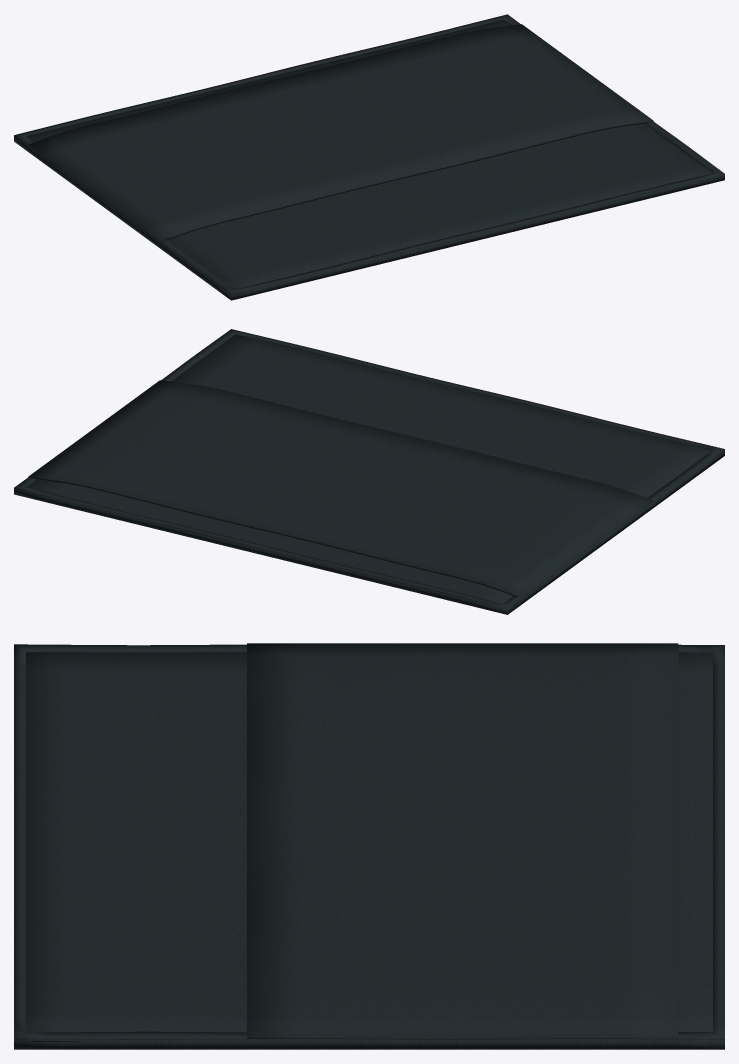
Rendered from KD1_Pad_Packed.fbx.
3 views of the same model, one above another, from view 1: azimuth 30°, elevation 25°; view 2: azimuth 150°, elevation 25°; view 3: azimuth 270°, elevation 25° (orthographic). The views are drawn at different scales.
Visible parts, largest first — view 1: Part_HandSleeve_Packed, Part_PadContact_Packed, Part_EdgeBinding_Packed; view 2: Part_HandSleeve_Packed, Part_PadContact_Packed, Part_EdgeBinding_Packed; view 3: Part_HandSleeve_Packed, Part_PadContact_Packed, Part_EdgeBinding_Packed.
Boxes of the visible parts, left/top/right/bottom form: Part_HandSleeve_Packed: left=28, top=24, right=653, bottom=241; Part_PadContact_Packed: left=14, top=20, right=724, bottom=300; Part_EdgeBinding_Packed: left=14, top=14, right=724, bottom=294; Part_HandSleeve_Packed: left=28, top=380, right=653, bottom=597; Part_PadContact_Packed: left=14, top=334, right=724, bottom=614; Part_EdgeBinding_Packed: left=14, top=329, right=724, bottom=608; Part_HandSleeve_Packed: left=247, top=643, right=678, bottom=1038; Part_PadContact_Packed: left=14, top=652, right=724, bottom=1049; Part_EdgeBinding_Packed: left=14, top=644, right=724, bottom=1041.
Size of the model in its own units: 0.16 by 0.004 by 0.122.
2 materials, 2 textured.
